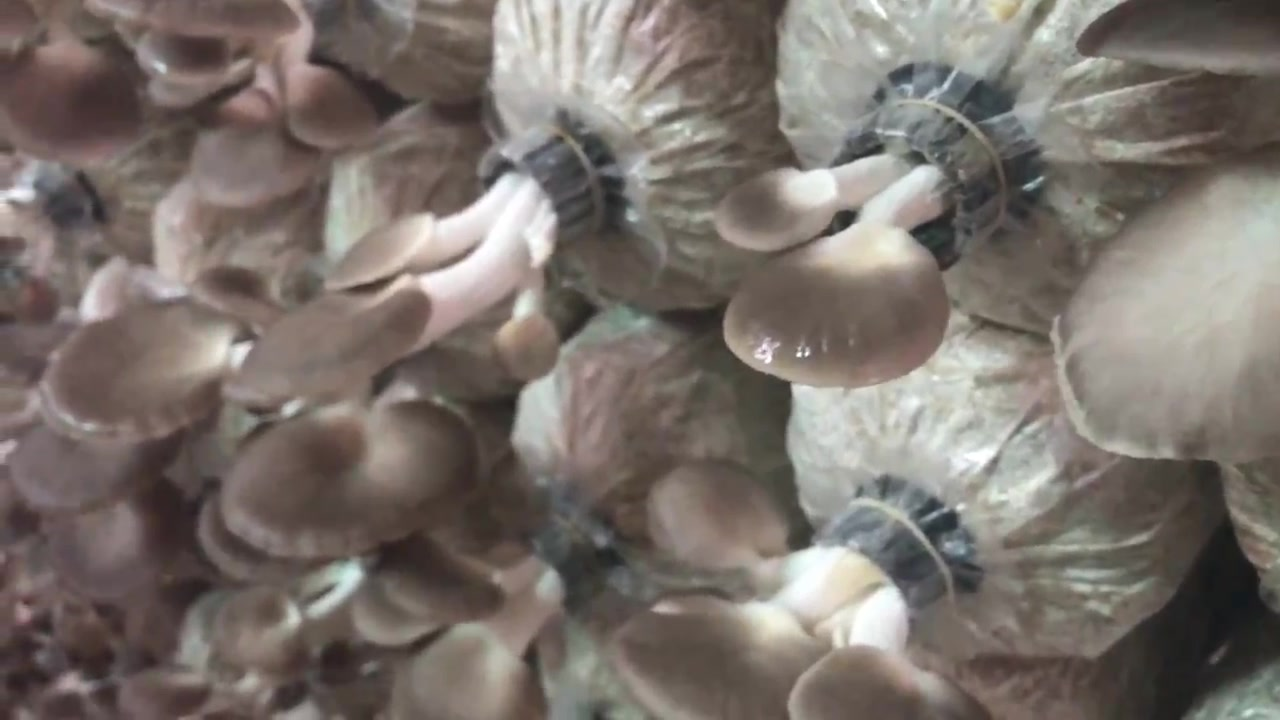nam: (241, 134, 623, 417), (618, 460, 995, 720), (713, 84, 1021, 389), (1053, 150, 1280, 459), (218, 357, 488, 556), (352, 518, 613, 720)
